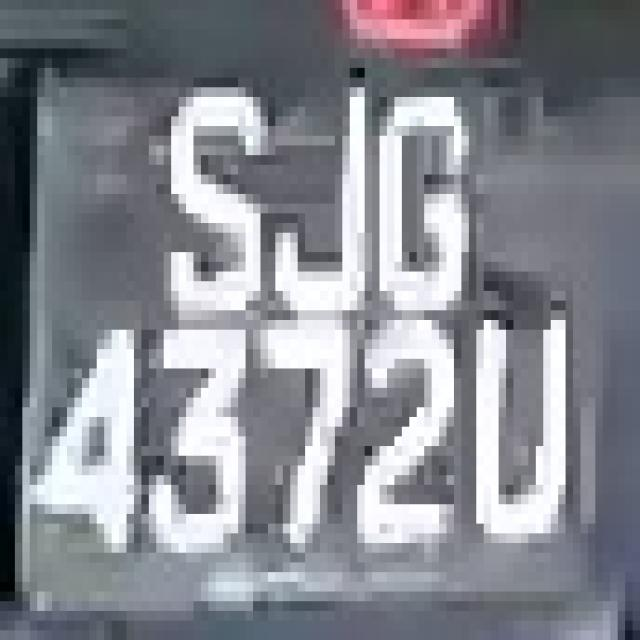2: (335, 320, 469, 582)
3: (230, 300, 364, 592), (134, 310, 260, 572)
4: (37, 300, 149, 582)
G: (372, 68, 476, 330)
J: (260, 58, 380, 320)
S: (149, 68, 268, 330)
U: (469, 301, 580, 543)
